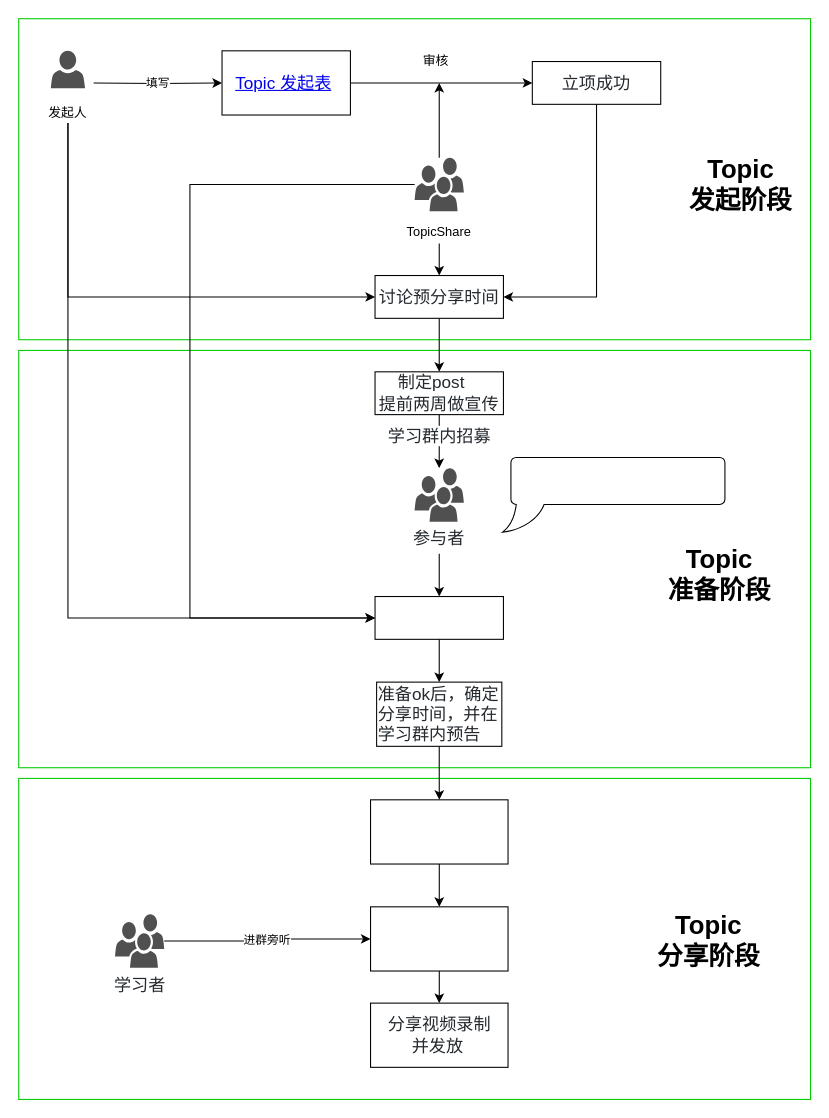
This 829x1118 diagram has some shape labels left out. Here are the shapes that lost their labels. From the top down, the box of each, then its label:
(510, 456, 725, 532): 注：参与者的作用：主要是 和发起者一起对该Topic 进行 调研和设计内容
(374, 595, 503, 639): Topic分享准备群
(369, 799, 508, 864): 学习群内分享 Post 和 腾讯会议 会议 ID
(369, 906, 508, 971): 发起者和参与者 进会议室 并分享
